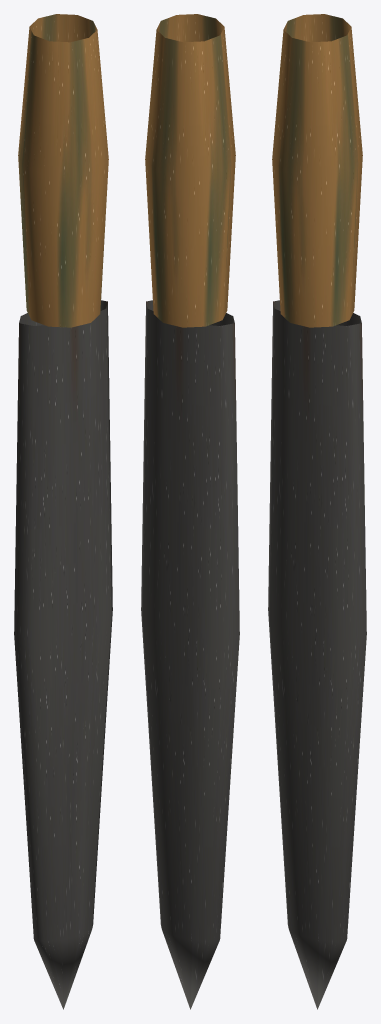
File: pugio.glb
3 renders of one model, left to right at view 1: azimuth 30°, elevation 25°; view 2: azimuth 150°, elevation 25°; view 3: azimuth 330°, elevation 25°, orthographic.
Parts seen in each view (by area): view 1: pugio; view 2: pugio; view 3: pugio.
Part boxes in pixels (x1,y1,x2,y2): pugio: [14, 14, 112, 1009]; pugio: [141, 14, 239, 1009]; pugio: [268, 14, 366, 1009].
Size of the model in its own units: 0.04 by 0.38 by 0.0304.
2 materials, 2 textured.
